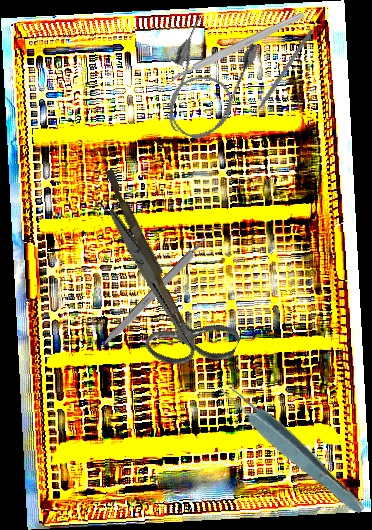Cannula: (149, 12, 263, 149)
Chopper: (244, 25, 314, 123)
Iris Scissors: (62, 205, 269, 388)
Pusher: (100, 168, 199, 345)
Scalpel Handle: (99, 236, 211, 350), (169, 10, 306, 83)
Tissue Forceps: (214, 376, 371, 520)
